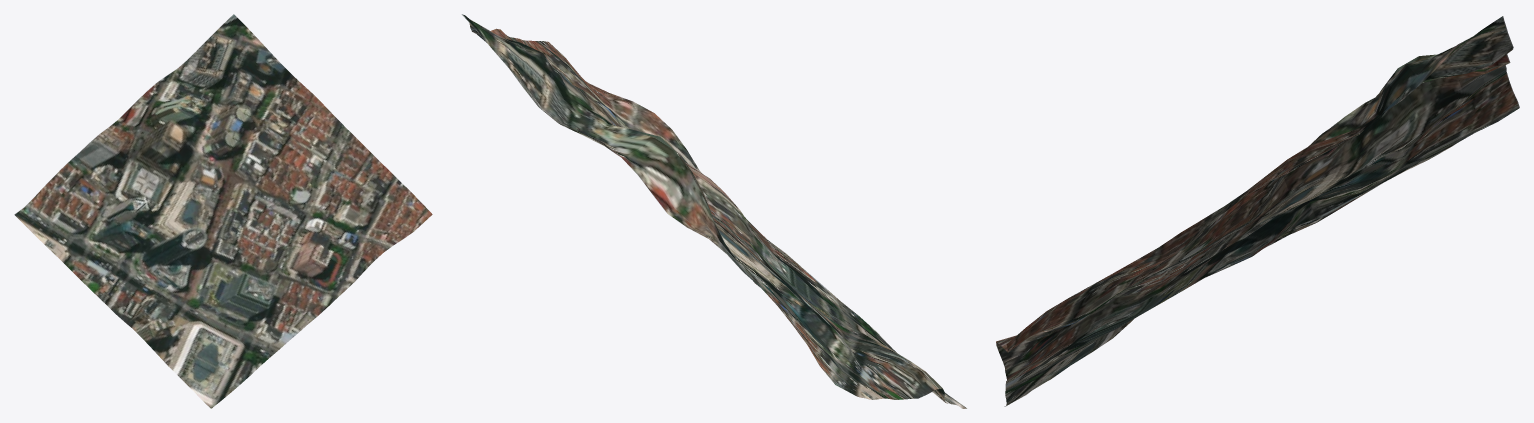
3 renders of one model, left to right at view 1: azimuth 30°, elevation 25°; view 2: azimuth 150°, elevation 25°; view 3: azimuth 270°, elevation 25°, orthographic. The views are drawn at different scales.
Bounding box in the file's own units: 587 × 516 × 458.
1 material, 1 textured.
